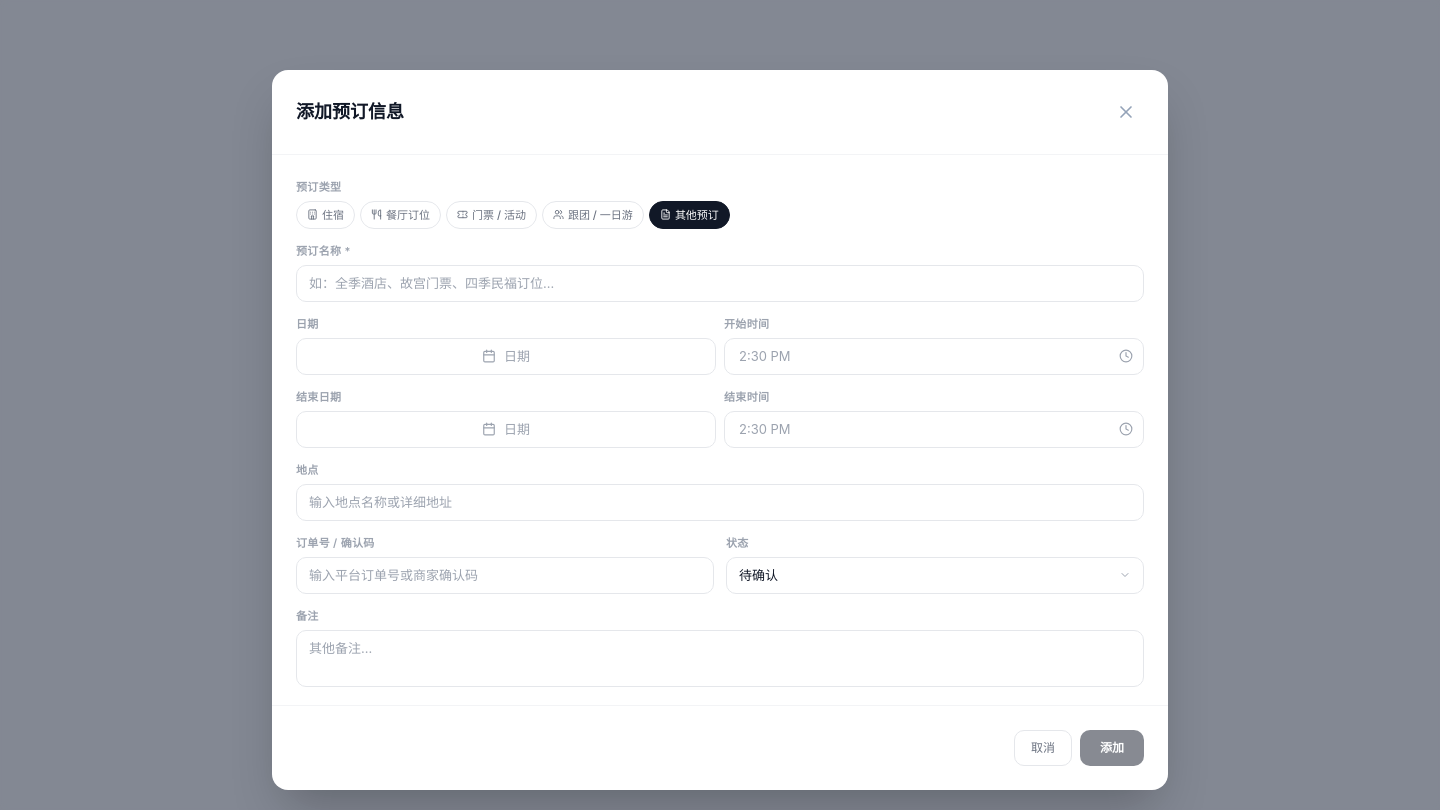
Test: ReservationModal › FE-PLANNER-RESMODAL-008: hotel type shows check-in/check-out time fields
What coordinates should you click on to do the following:
click the button "住宿"
I would click on:
 (326, 215)
Its box is x1=296 y1=200 x2=355 y2=229.
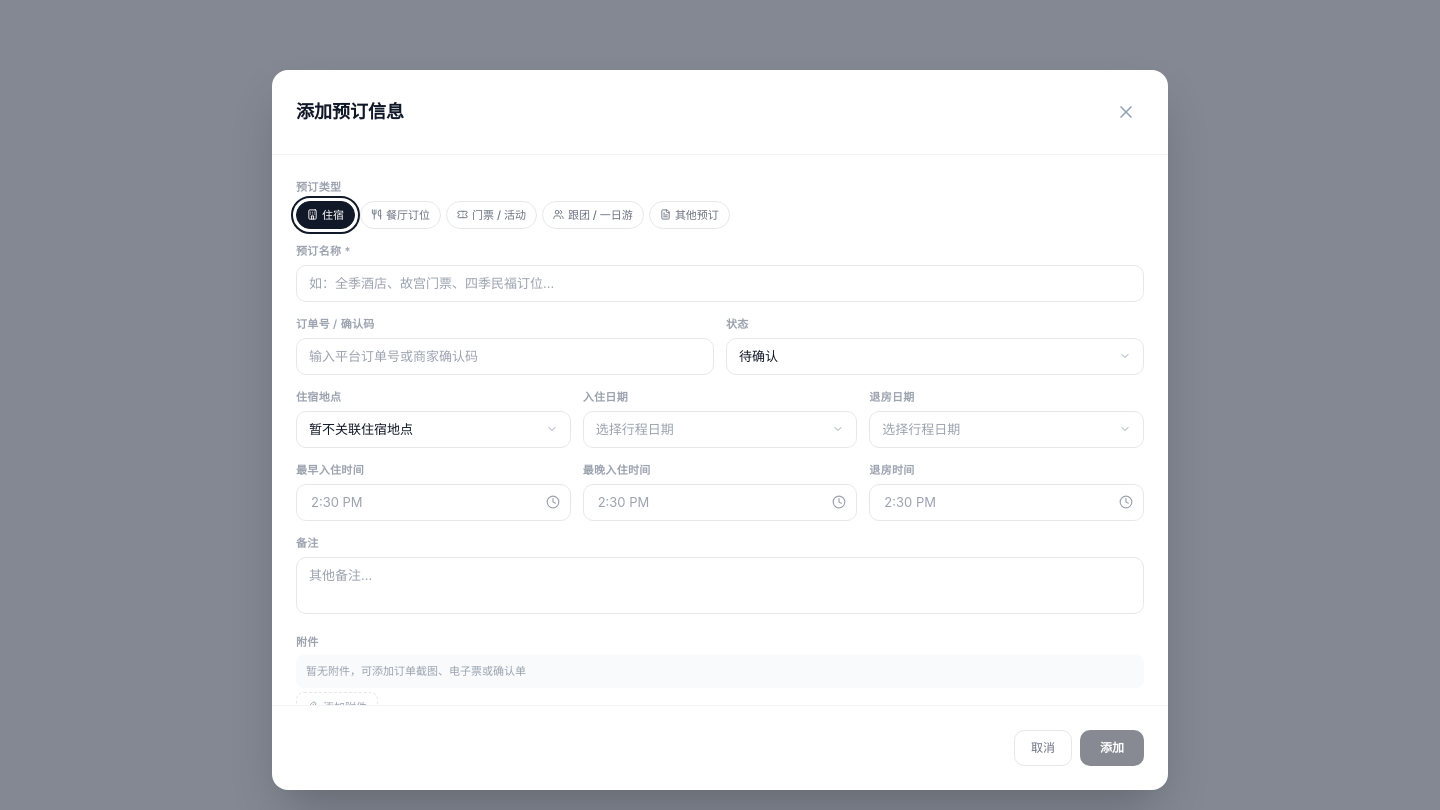
Expected: the text "退房时间" is shown, x1=869 y1=463 x2=915 y2=477
